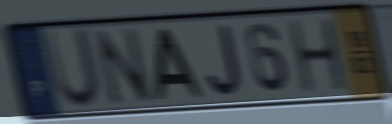6: (245, 22, 291, 96)
A: (153, 27, 206, 102)
H: (286, 15, 351, 96)
J: (204, 22, 245, 99)
N: (89, 25, 156, 108)
U: (40, 25, 104, 112)
